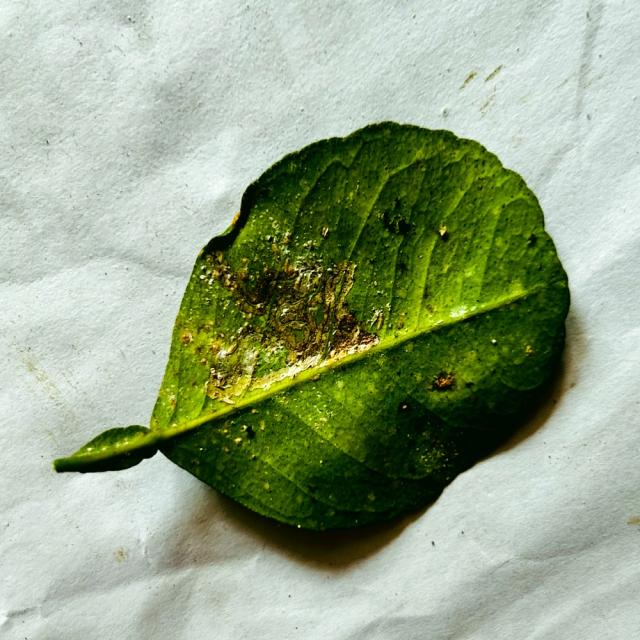Bacterial_Blight: (388, 400, 460, 473), (207, 328, 275, 399), (228, 260, 281, 313), (320, 270, 346, 361), (266, 311, 318, 355), (330, 311, 367, 350), (382, 211, 412, 236), (283, 260, 296, 277)
Lemon: (51, 122, 572, 538)
